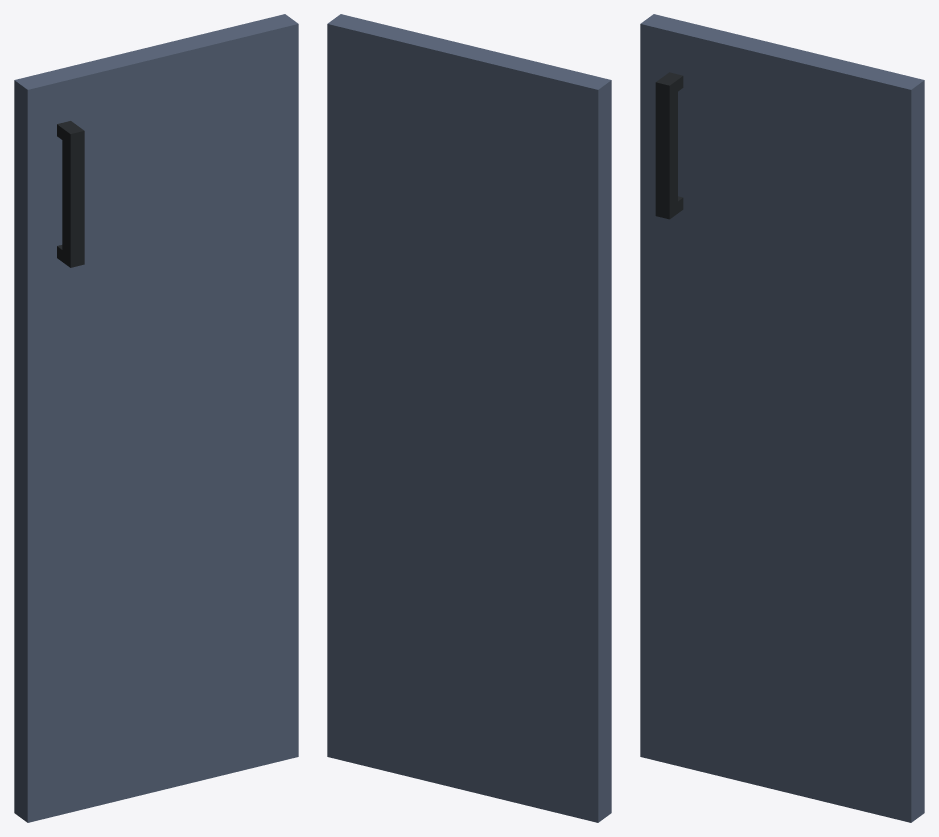
The model's file is Door1_C4_03.fbx.
3 views of the same model, side by side, from view 1: azimuth 30°, elevation 25°; view 2: azimuth 150°, elevation 25°; view 3: azimuth 330°, elevation 25° (orthographic).
Parts seen in each view (by area): view 1: Door1_C4_03; view 2: Door1_C4_03; view 3: Door1_C4_03.
Part boxes in pixels (x1,y1,x2,y2): Door1_C4_03: (14, 14, 298, 822); Door1_C4_03: (327, 14, 611, 822); Door1_C4_03: (640, 14, 924, 822).
Size of the model in its own units: 29 by 75 by 5.03.
